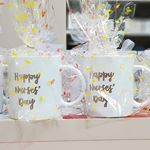cups: (4, 54, 88, 127), (85, 53, 150, 120)
